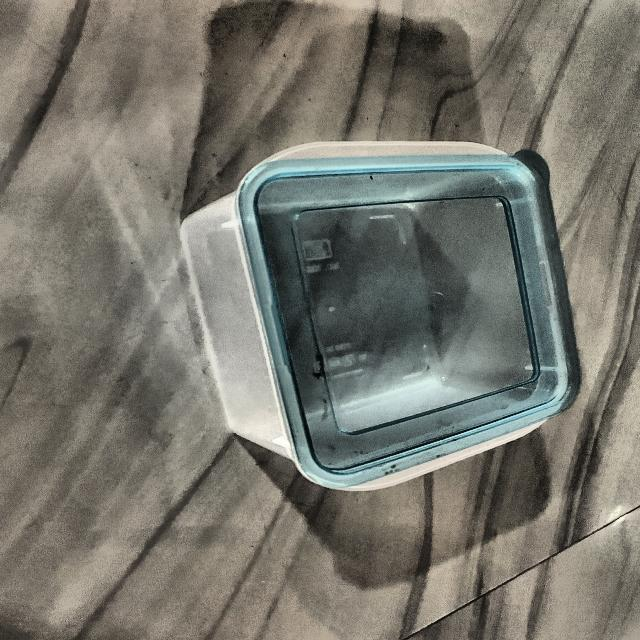plastic container: (178, 97, 581, 501)
